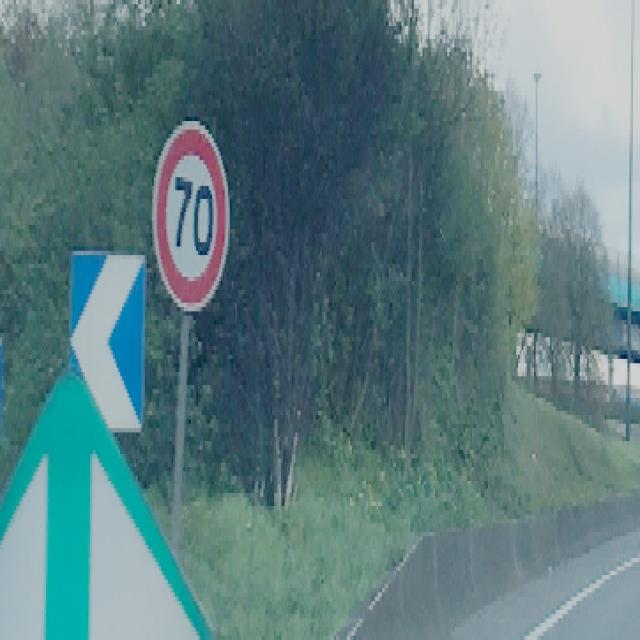speed_70: (153, 120, 230, 313)
